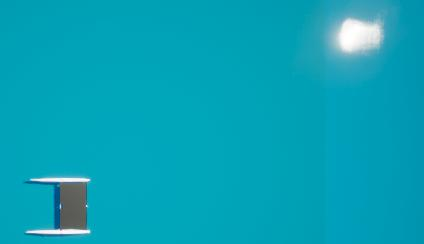boat: (27, 176, 93, 242)
drone: (60, 183, 86, 228)
land_base: (321, 1, 399, 69)
